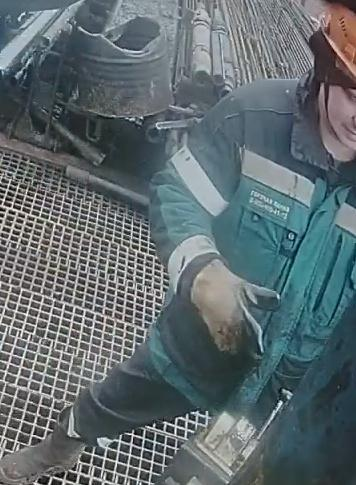gloves: (184, 249, 282, 359)
helmet: (316, 0, 356, 101)
vest: (169, 73, 355, 418)
